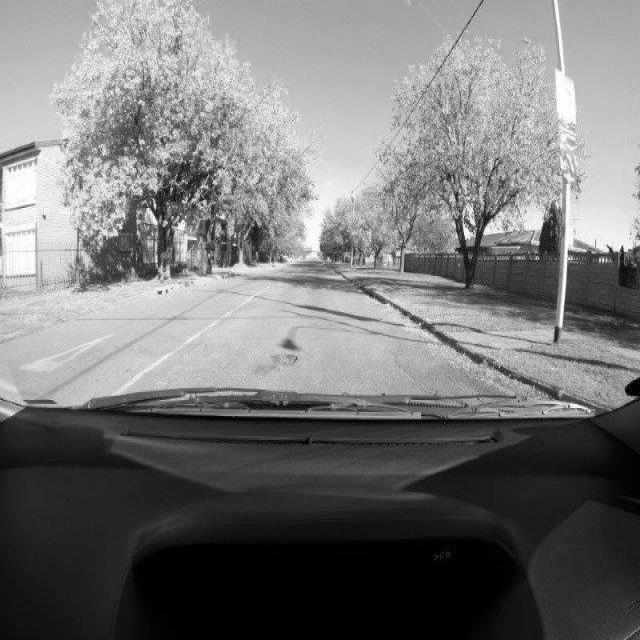lubang: (265, 350, 306, 378)
